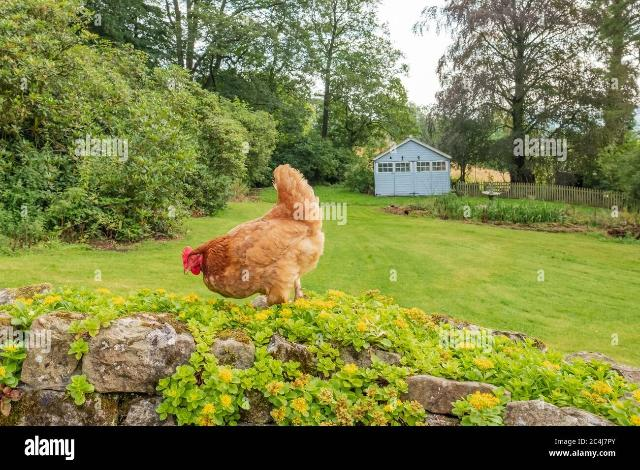Chicken: (181, 164, 325, 310)
